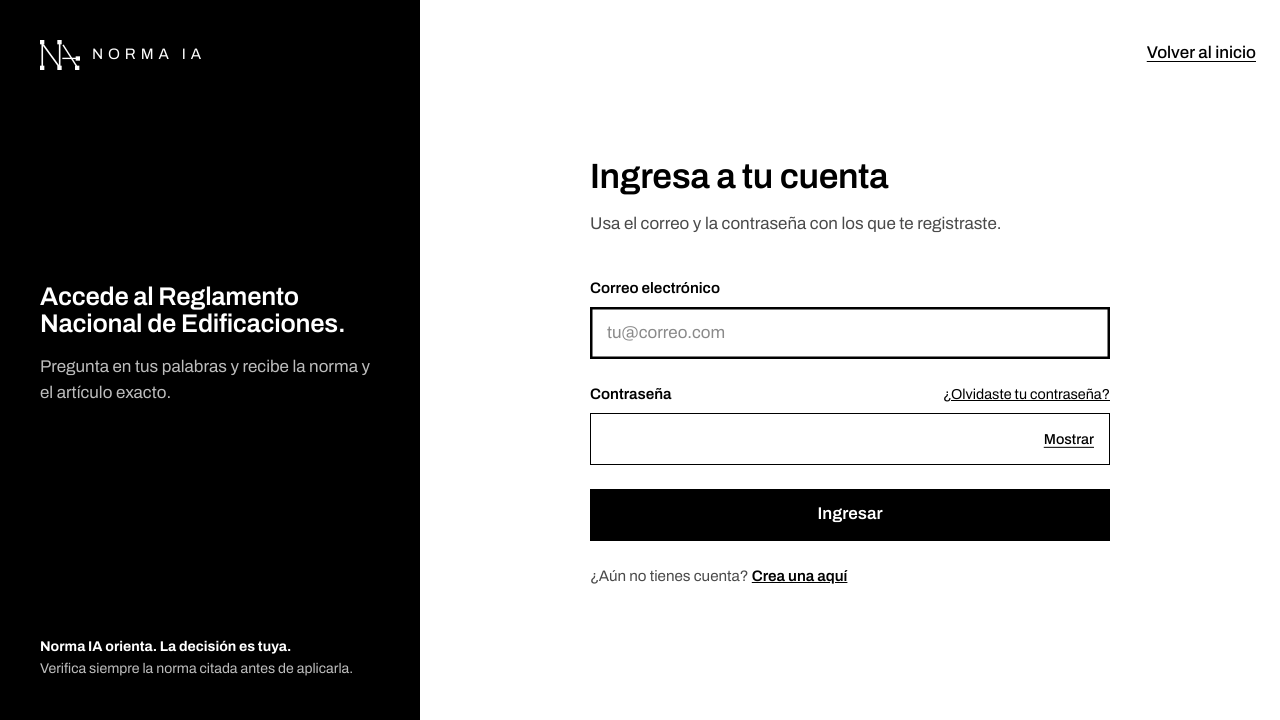
Scenario: ingreso › credenciales inválidas: mensaje genérico, limpia la contraseña y le devuelve el foco
In the field labelled "Correo electrónico": (850, 333) [590,307,1110,359], type "ana@correo.com"
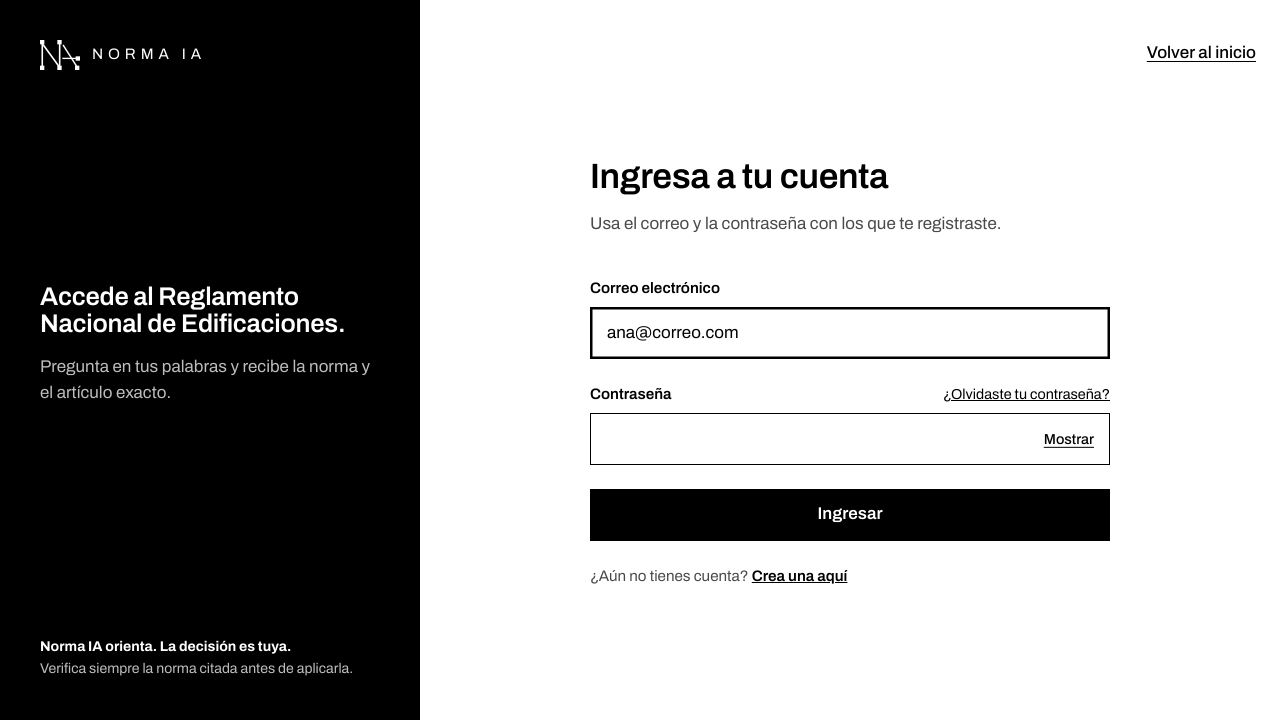
In the password field labelled "Contraseña": (850, 439) [590,413,1110,465], type "Mala1234"
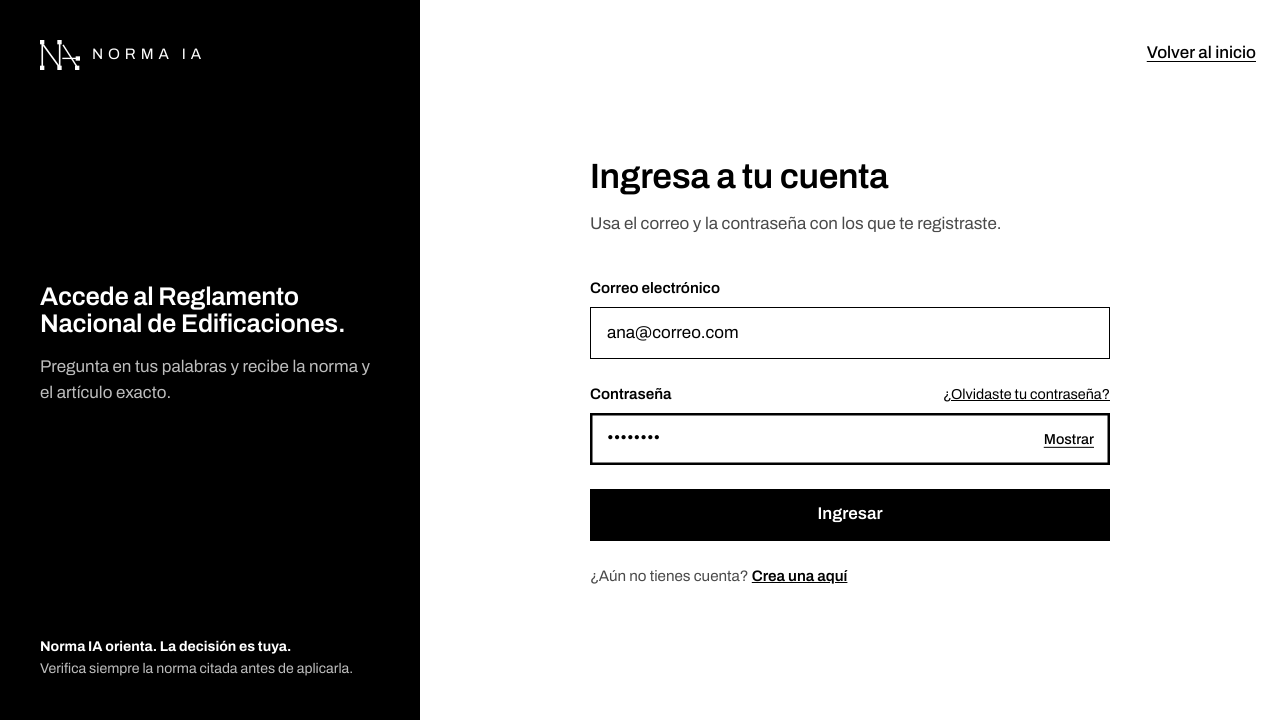
Click the button "Ingresar": (850, 515) [590,489,1110,541]
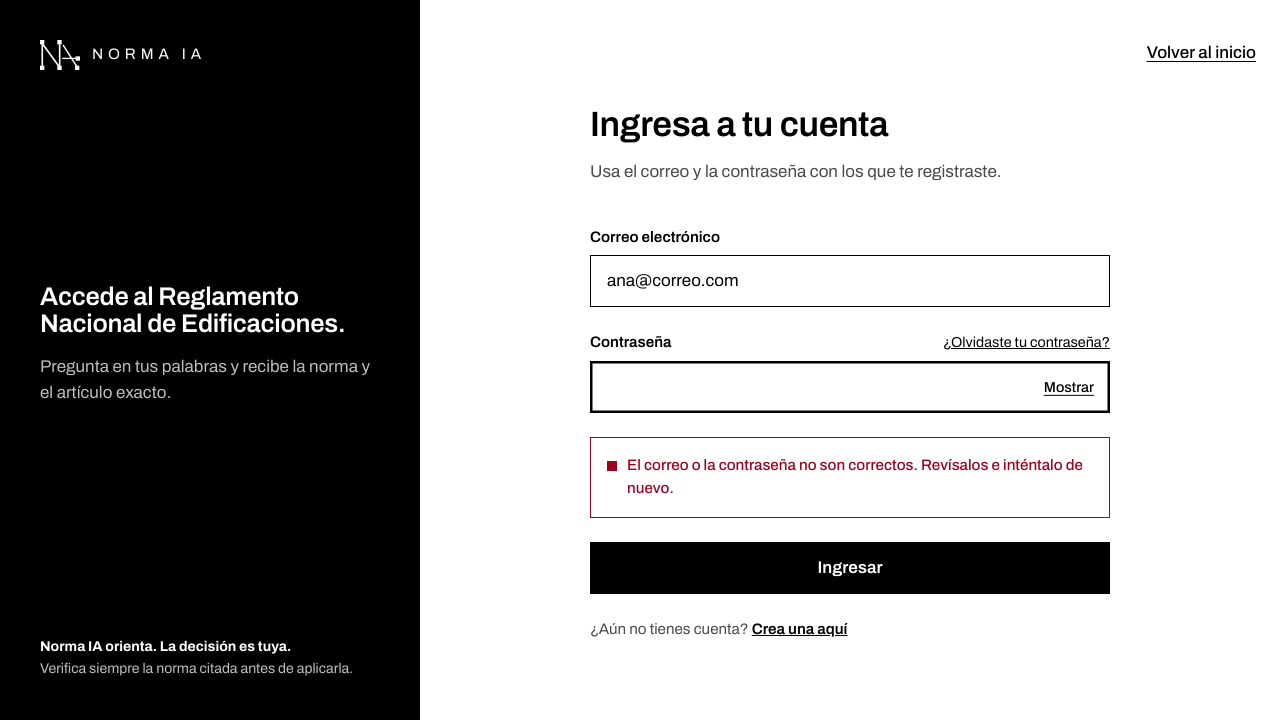
Now the message shows "El correo o la contraseña no son correctos", box [627,457,1083,496]
Now the password field labelled "Contraseña" is empty, box [590,361,1110,413]
